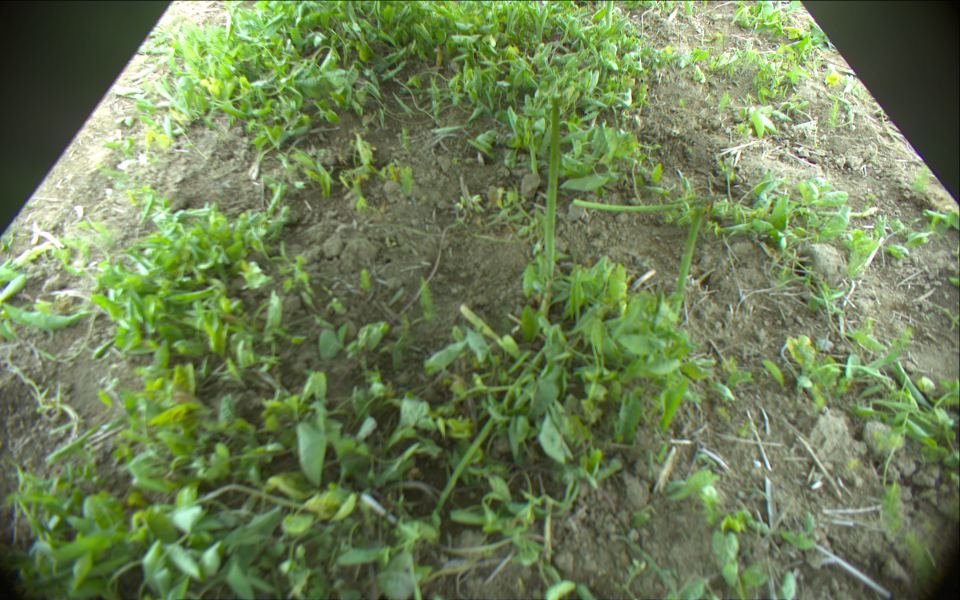aspa: (435, 343, 549, 516), (540, 95, 560, 317), (671, 208, 703, 321), (571, 198, 705, 213)
